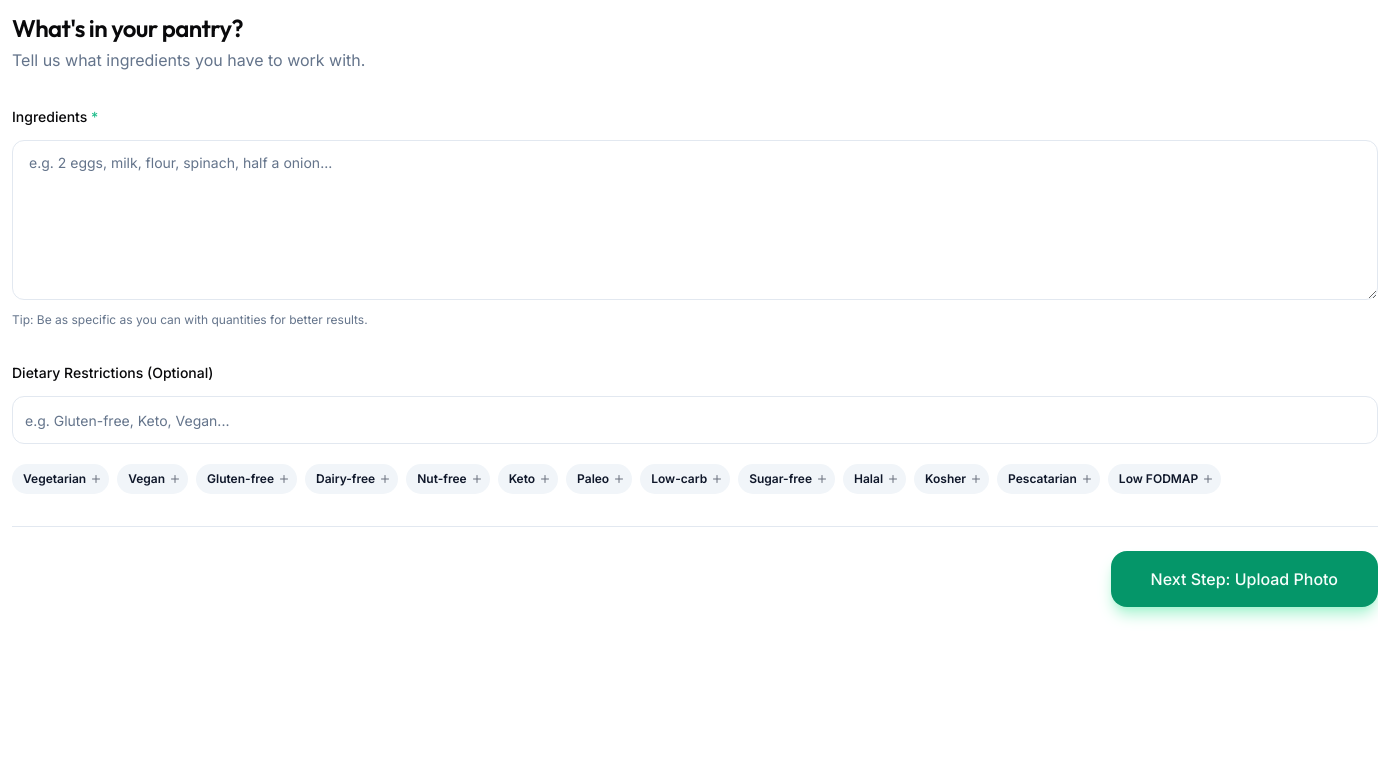
Scenario: IngredientsPage Validation › shows validation error for empty ingredients
Click the button "Next Step: Upload Photo" at (1244, 579), box [1111, 551, 1378, 607]
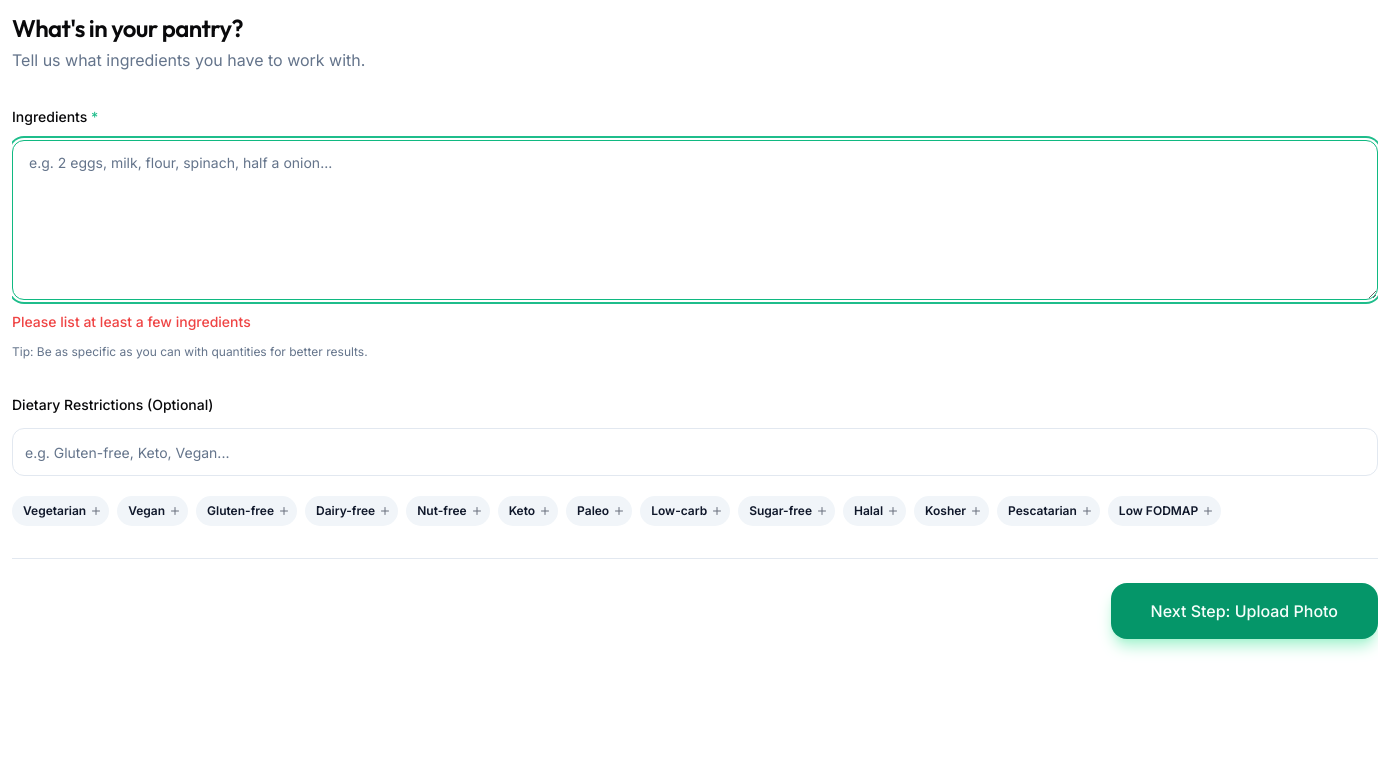
Result: the text "Please list at least a few ingredients" is shown at [12, 313, 251, 330]
